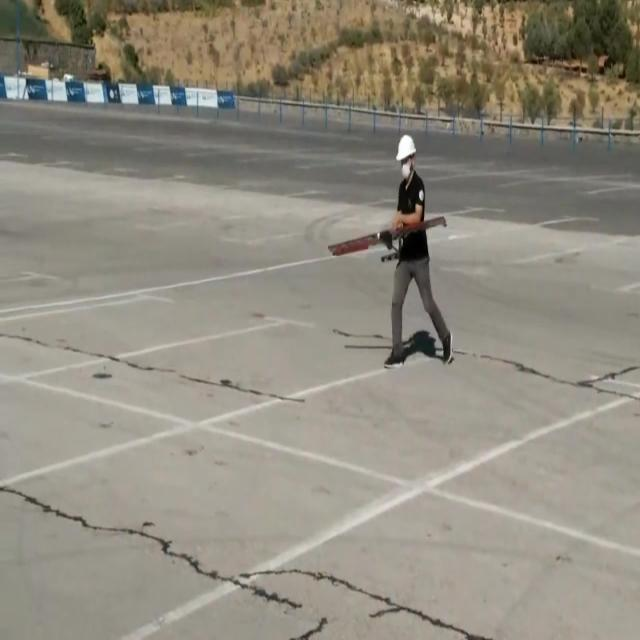iha: (360, 215, 416, 267)
